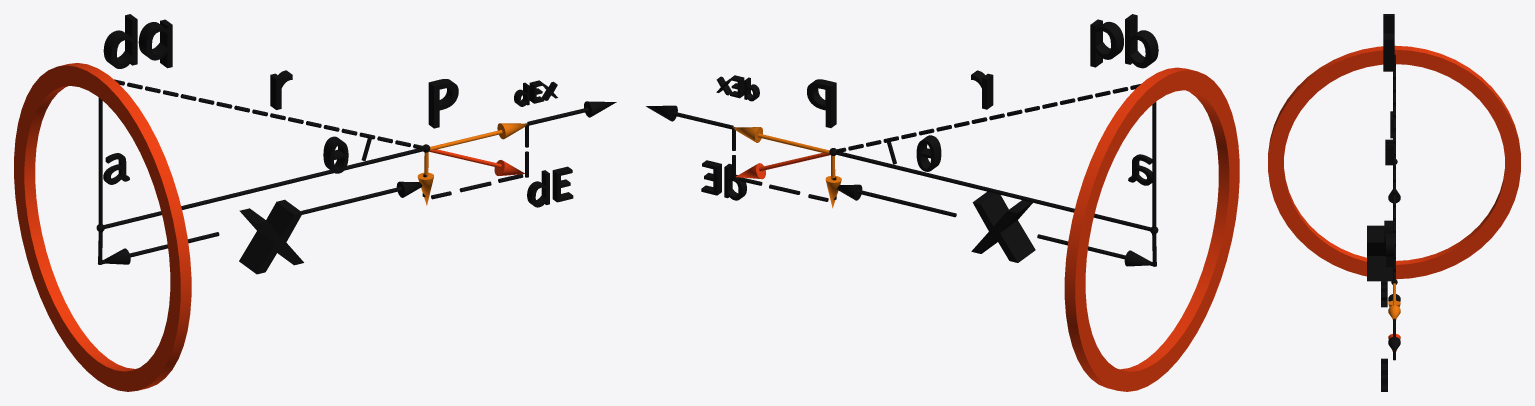
Rendered from ring.gltf.
3 views of the same model, side by side, from view 1: azimuth 30°, elevation 25°; view 2: azimuth 150°, elevation 25°; view 3: azimuth 270°, elevation 25° (orthographic). The views are drawn at different scales.
Visible parts, largest first — view 1: pPipe1, typeMesh4, typeMesh8, pCylinder1, pCylinder21, typeMesh6, typeMesh3, typeMesh9, typeMesh5, pCylinder22, typeMesh1, typeMesh2; view 2: pPipe1, typeMesh4, typeMesh8, pCylinder1, pCylinder21, typeMesh6, typeMesh3, typeMesh9, typeMesh5, pCylinder22, typeMesh2, typeMesh1; view 3: pPipe1, typeMesh4, typeMesh8, pCylinder21, typeMesh3, typeMesh2, typeMesh6.
Boxes of the visible parts, x1,y1,x2,y2 form: pPipe1: (14,63,191,391); typeMesh4: (239,199,303,274); typeMesh8: (103,14,172,68); pCylinder1: (104,148,423,228); pCylinder21: (114,79,423,149); typeMesh6: (527,166,573,207); typeMesh3: (428,79,458,128); typeMesh9: (323,136,348,173); typeMesh5: (514,80,557,106); pCylinder22: (98,98,102,225); typeMesh1: (103,153,129,184); typeMesh2: (270,70,292,109); pPipe1: (1064,67,1239,391); typeMesh4: (971,191,1035,262); typeMesh8: (1090,14,1158,68); pCylinder1: (835,152,1150,231); pCylinder21: (836,84,1140,152); typeMesh6: (701,160,746,200); typeMesh3: (807,79,836,127); typeMesh9: (916,135,941,171); typeMesh5: (716,75,759,101); pCylinder22: (1152,102,1156,227); typeMesh2: (971,70,993,109); typeMesh1: (1128,154,1152,185); pPipe1: (1268,45,1520,279); typeMesh4: (1367,225,1392,281); typeMesh8: (1383,14,1394,71); pCylinder21: (1393,54,1395,279); typeMesh3: (1386,233,1394,267); typeMesh2: (1385,139,1394,165); typeMesh6: (1381,358,1387,391).
Size of the model in its own units: 0.1438 by 0.0946 by 0.0798.
